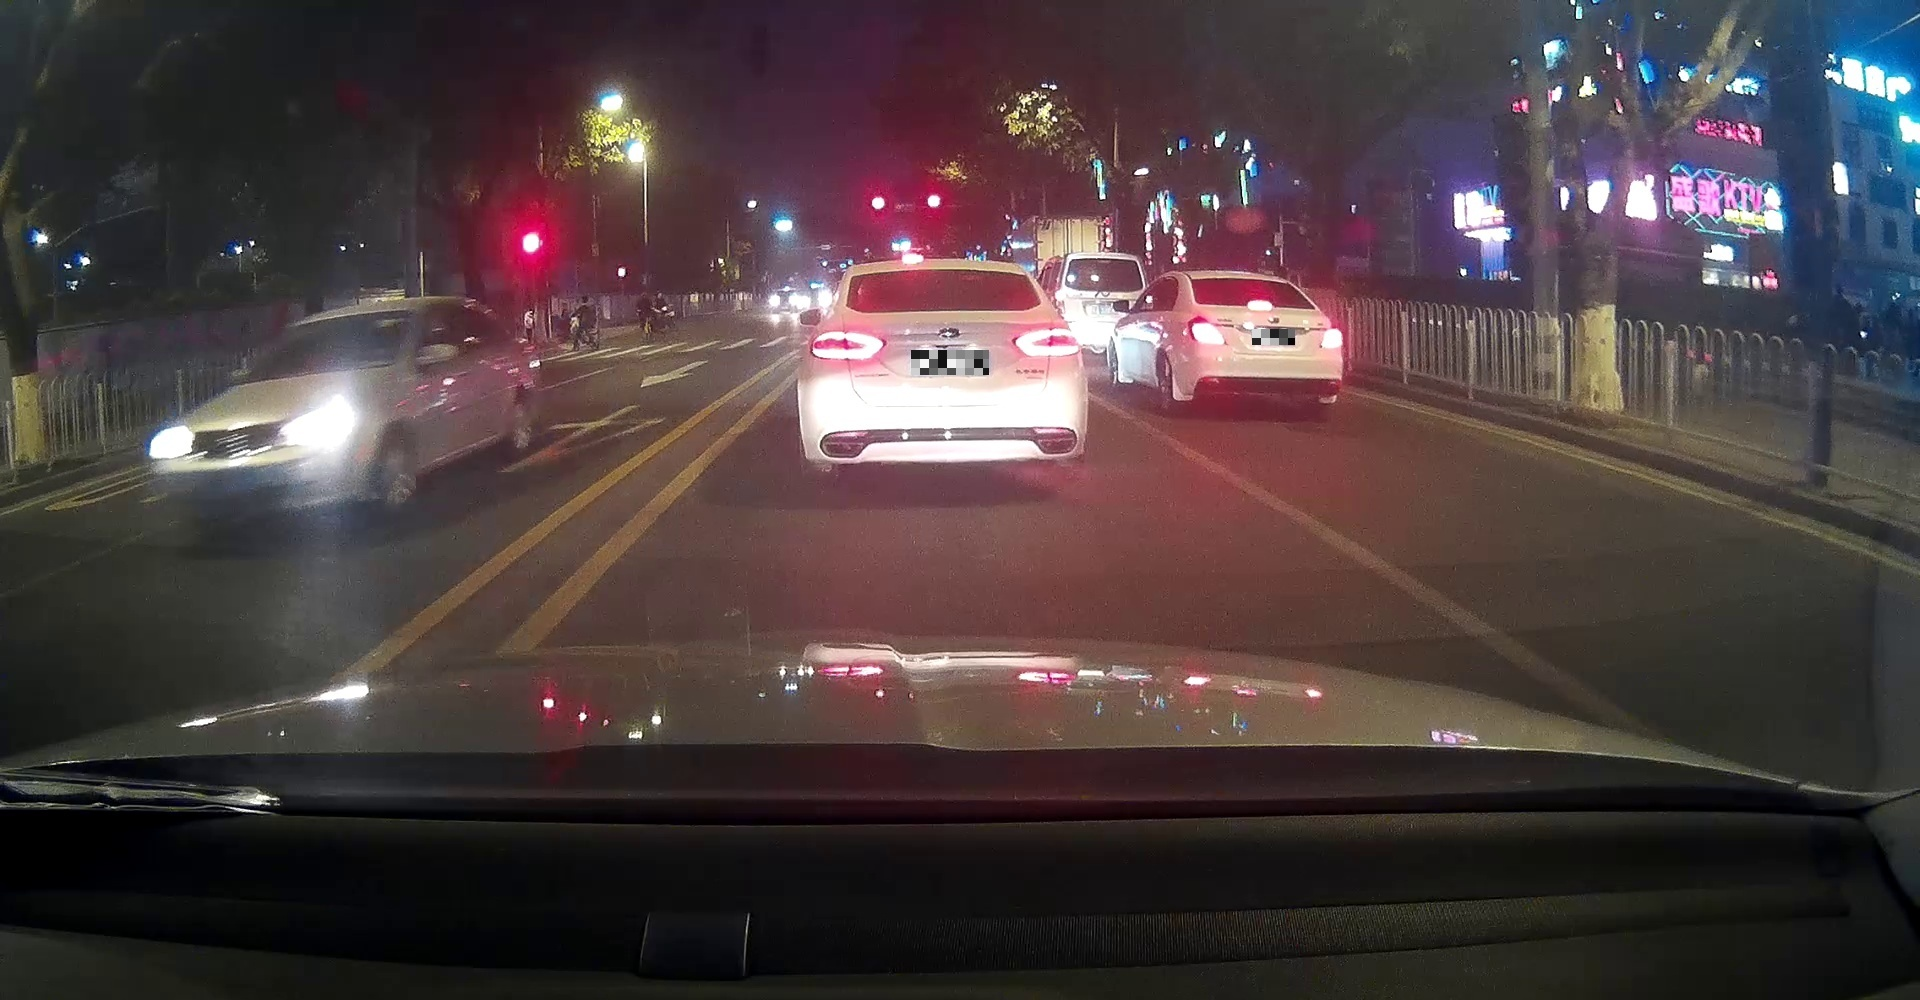L_light: (810, 331, 886, 359), (1187, 316, 1227, 345)
R_light: (1011, 327, 1079, 357), (1321, 327, 1343, 348)
T_light: (924, 264, 957, 274), (1247, 299, 1272, 312)
night-brake: (1183, 270, 1343, 412)
night-no: (806, 259, 1083, 489)
plate_1: (910, 350, 989, 376)
plate_2: (1252, 329, 1295, 345)
